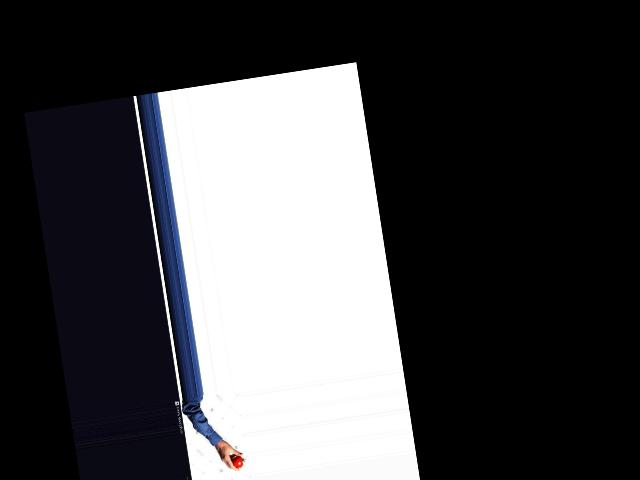tomato: (231, 455, 243, 469)
